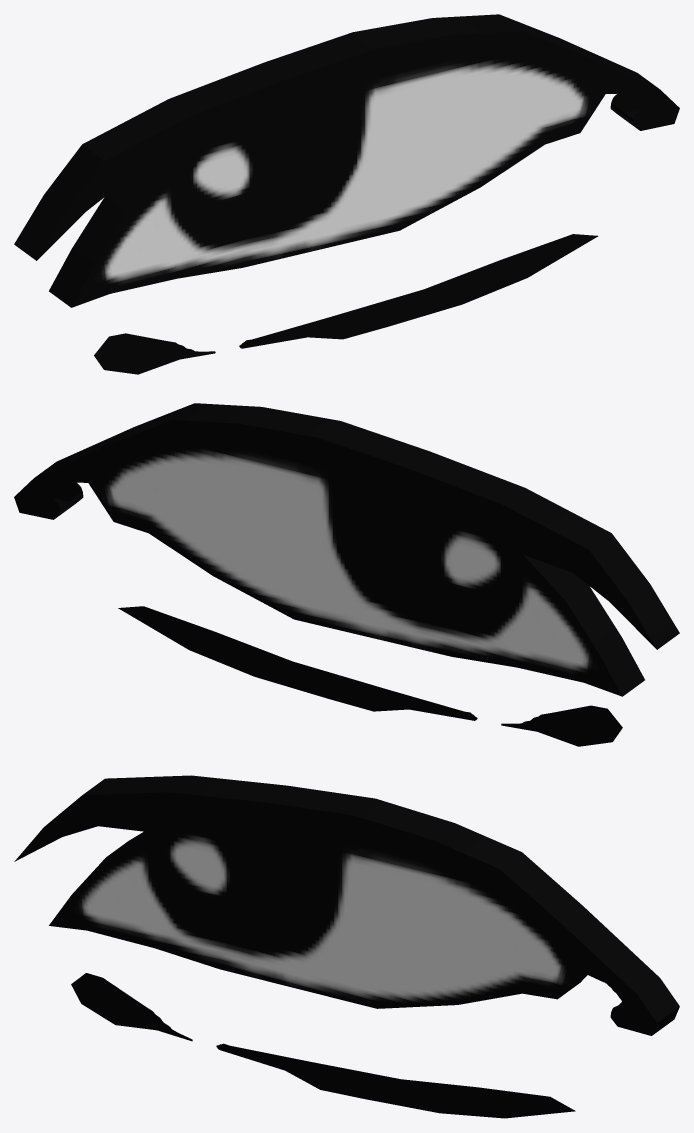
The model's file is elf_eye_L.fbx.
The picture shows the model from 3 angles, top to bottom: view 1: azimuth 30°, elevation 25°; view 2: azimuth 150°, elevation 25°; view 3: azimuth 330°, elevation 25°; orthographic projection.
Parts seen in each view (by area): view 1: elf_eye_L; view 2: elf_eye_L; view 3: elf_eye_L.
Boxes of the visible parts, box(x1,y1,x2,y2) form: elf_eye_L: box(14, 14, 679, 374); elf_eye_L: box(14, 403, 679, 746); elf_eye_L: box(14, 775, 679, 1118).
Bounding box in the file's own units: 16.25 × 6.82 × 0.9975.
1 material, 1 textured.
